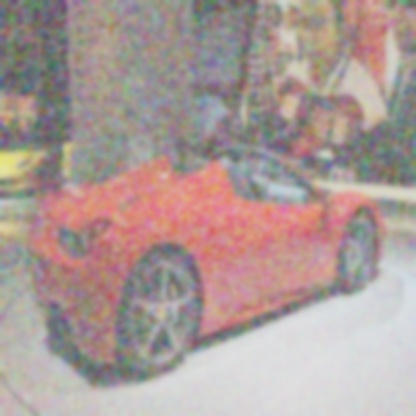Vehicle: (25, 139, 388, 376)
